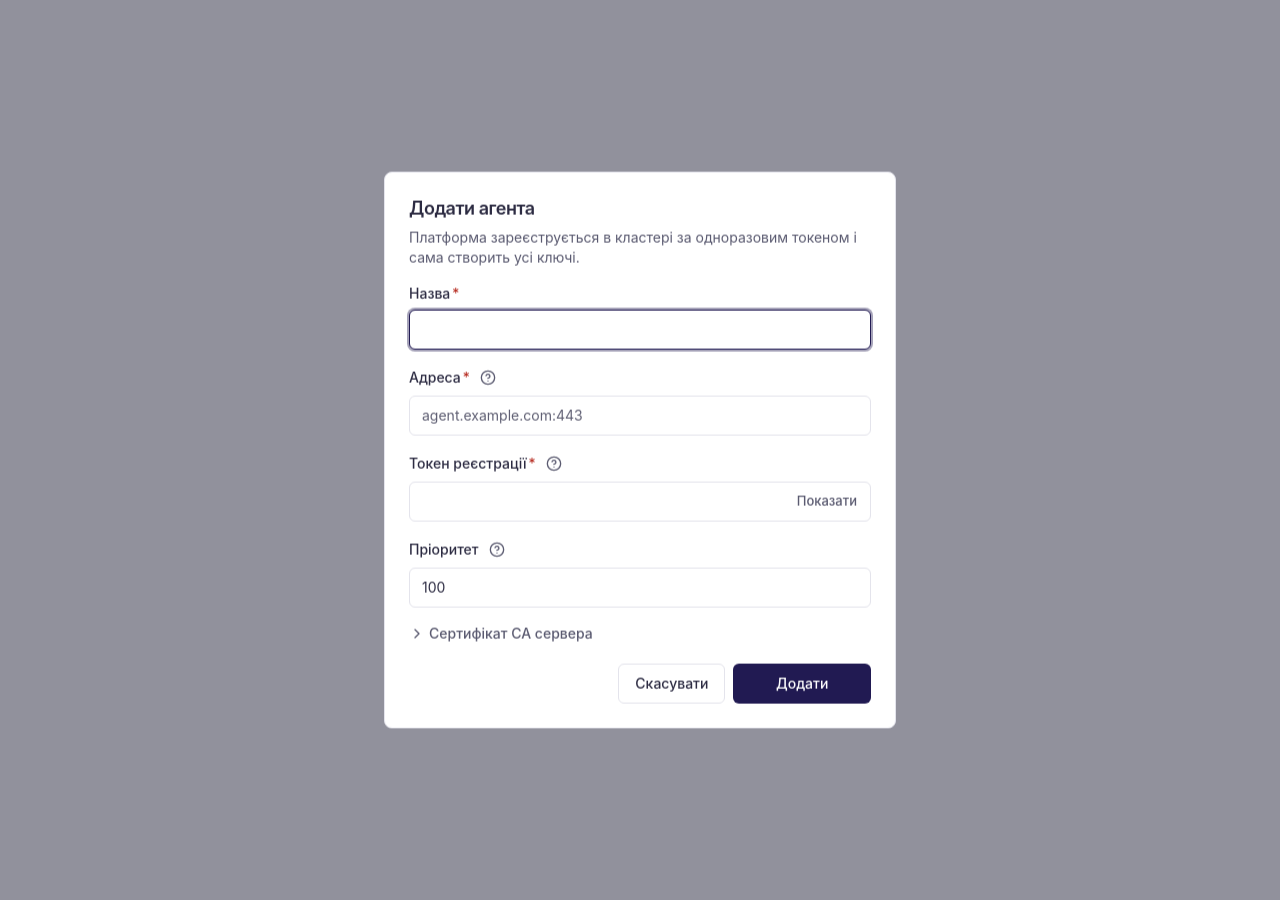
validates every invalid enrollment field beside that control before contacting the API
Submit the form, box [409,197,871,703]
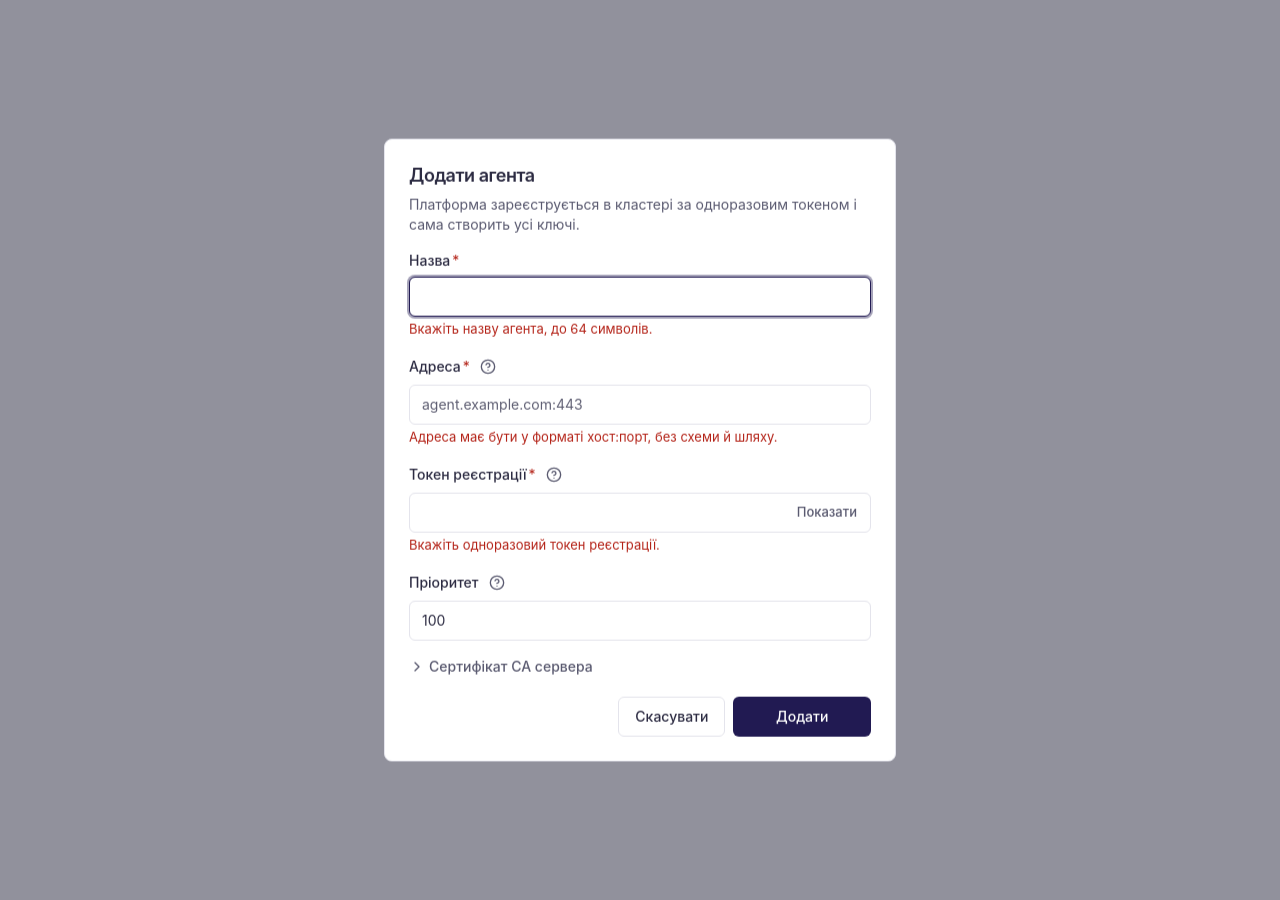
Expected: the number of messages is 3, [409,320,652,336]; [409,428,778,444]; [409,536,660,552]
Type "Cluster" into the field with id "agent-name" at (640, 296), box [409,276,871,316]
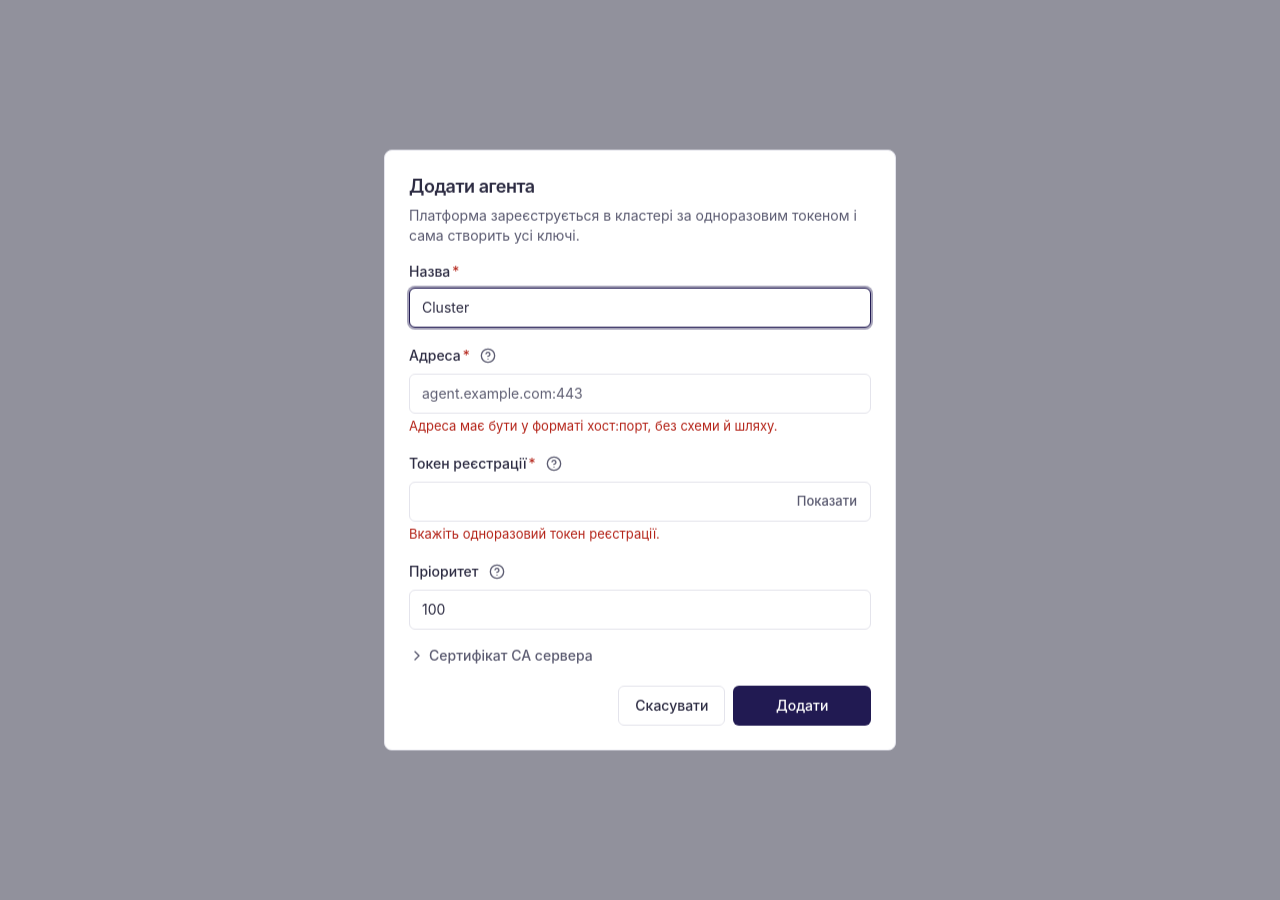
Expected: the number of messages is 2, [409,417,778,433]; [409,525,660,541]
